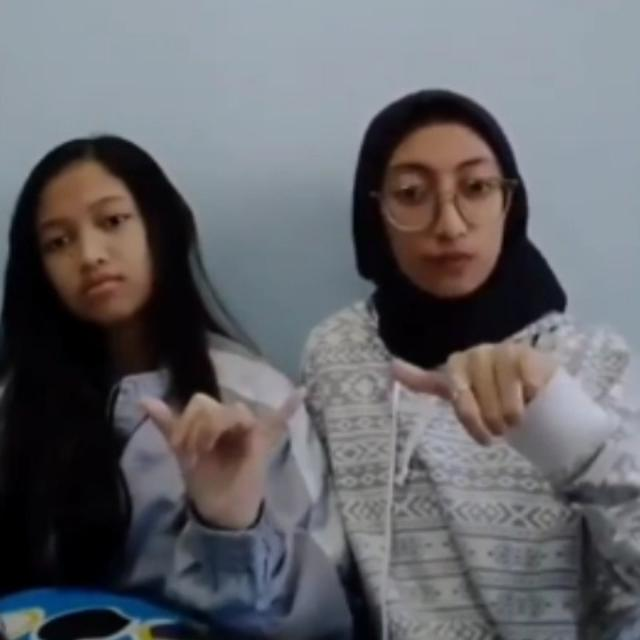Y: (134, 382, 316, 501), (390, 340, 570, 448)
